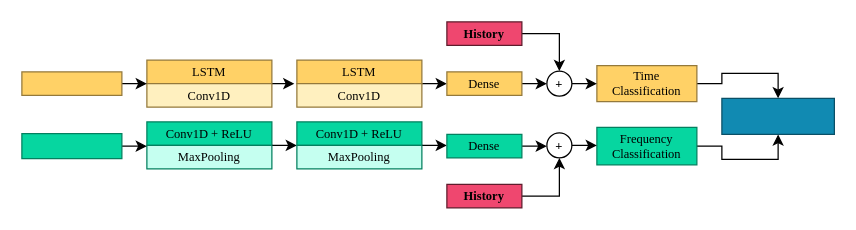
Image size: 856x230. Some labels were removed from this diagram. The shapes that lost their labels are listed below. From the top down, each one's centre as x and y in pixels, then its label:
(x=71, y=83): Heartbeat
(x=777, y=115): ENSEMBLE CLASSIFICATION
(x=71, y=145): FFT(Heartbeat)
